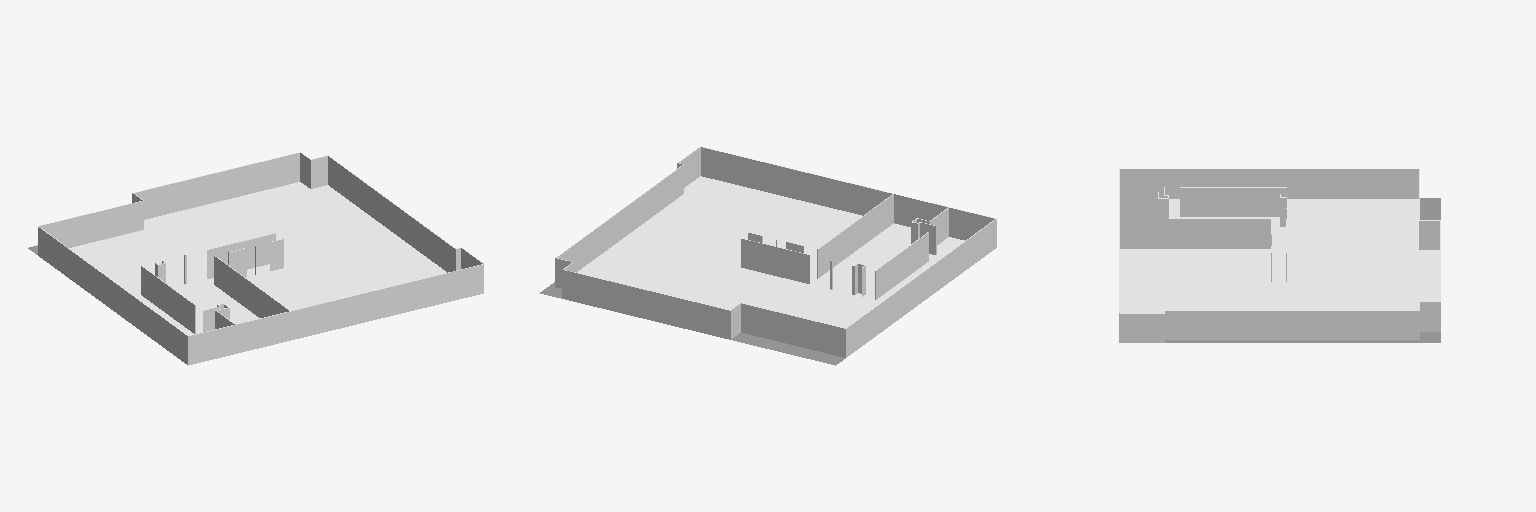
Rendered from San_Jose_1.obj.
3 views of the same model, side by side, from view 1: azimuth 30°, elevation 25°; view 2: azimuth 150°, elevation 25°; view 3: azimuth 270°, elevation 25° (orthographic).
Parts seen in each view (by area): view 1: room_30_176, wall_23_137, wall_20_119, wall_14_82, wall_16_95, wall_22_131, wall_28_167, wall_7_40, wall_12_71, wall_13_77, wall_25_149; view 2: room_30_176, wall_23_136, wall_20_118, wall_14_82, wall_16_95, wall_22_130, wall_28_167, wall_25_148, wall_7_40, ground_1, wall_13_76, wall_12_70; view 3: room_30_176, wall_16_94, wall_14_83, wall_28_166, wall_7_41, ground_1, wall_15_88, wall_1_5, wall_19_112, wall_21_125.
Part boxes in pixels (x1,y1,x2,y2): room_30_176: (69,182,446,335); wall_23_137: (286,264,483,341); wall_20_119: (134,153,299,219); wall_14_82: (38,227,187,364); wall_16_95: (328,156,455,272); wall_22_131: (39,201,143,247); wall_28_167: (214,256,288,317); wall_7_40: (141,266,194,333); wall_12_71: (235,313,285,353); wall_13_77: (188,325,235,365); wall_25_149: (207,233,275,278); room_30_176: (577,176,964,327); wall_23_136: (701,147,898,223); wall_20_118: (562,270,730,339); wall_14_82: (846,219,996,357); wall_16_95: (557,165,683,272); wall_22_130: (741,303,845,357); wall_28_167: (818,194,893,277); wall_25_148: (741,239,809,283); wall_7_40: (875,232,928,299); ground_1: (540,282,845,365); wall_13_76: (949,208,994,240); wall_12_70: (899,195,947,226); room_30_176: (1120,199,1439,312); wall_16_94: (1165,311,1419,339); wall_14_83: (1120,169,1418,198); wall_28_166: (1120,219,1270,248); wall_7_41: (1180,188,1286,216); ground_1: (1165,198,1440,342); wall_15_88: (1120,314,1164,342); wall_1_5: (1120,192,1157,218); wall_19_112: (1420,302,1440,331); wall_21_125: (1419,221,1439,249).
Size of the model in its own units: 2658 by 250 by 2498.